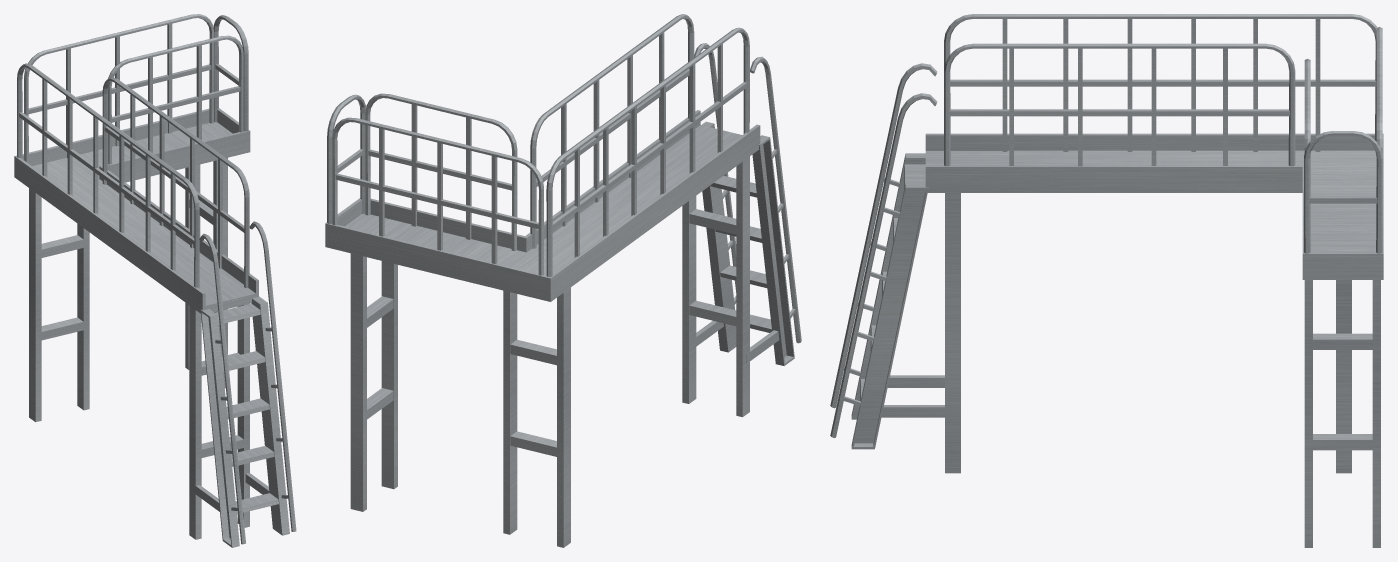
3 renders of one model, left to right at view 1: azimuth 30°, elevation 25°; view 2: azimuth 150°, elevation 25°; view 3: azimuth 270°, elevation 25°, orthographic. The views are drawn at different scales.
Visible parts, largest first — view 1: obj_017; view 2: obj_017; view 3: obj_017.
Boxes of the visible parts, bbox=[...] form: obj_017: bbox=[14, 14, 296, 547]; obj_017: bbox=[325, 14, 801, 547]; obj_017: bbox=[830, 14, 1383, 547].
Size of the model in its own units: 210 by 346 by 405.
